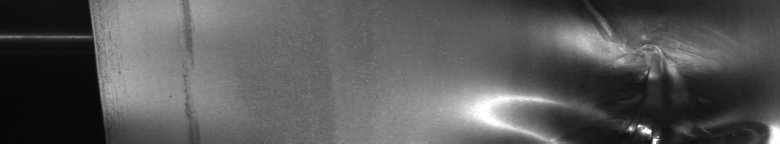ke: (492, 12, 776, 136)
